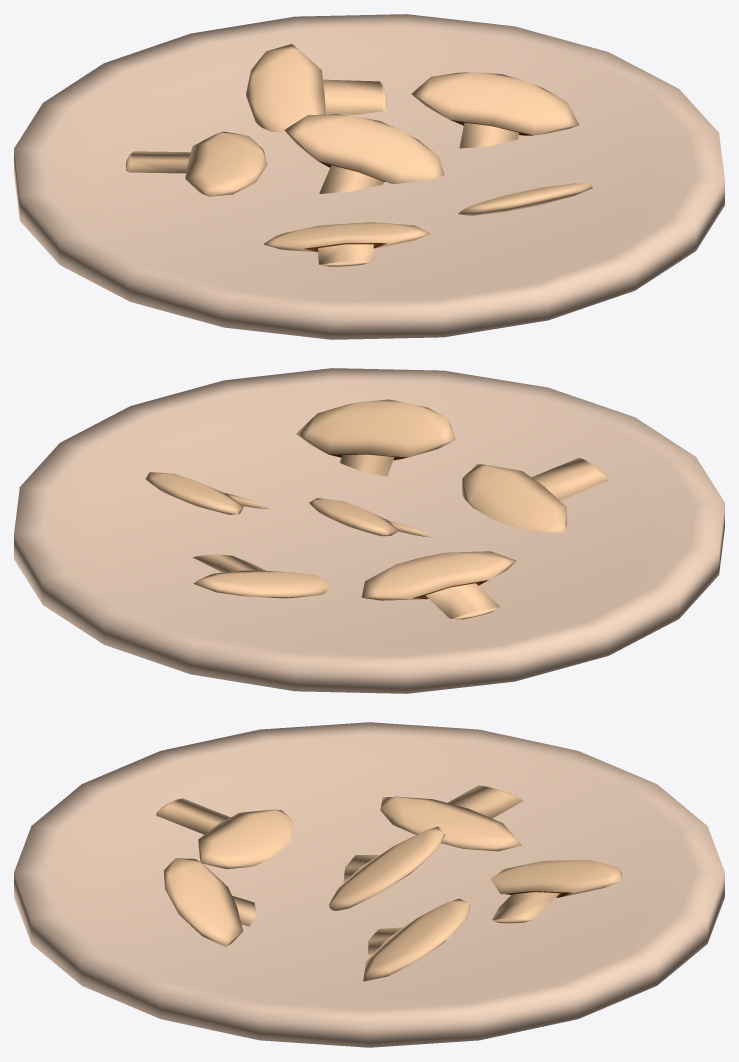
Rendered from RawPizza(WithMushrooms).glb.
3 renders of one model, top to bottom at view 1: azimuth 30°, elevation 25°; view 2: azimuth 150°, elevation 25°; view 3: azimuth 270°, elevation 25°, orthographic.
Visible parts, largest first — view 1: Icosphere.025; view 2: Icosphere.025; view 3: Icosphere.025.
Boxes of the visible parts, x1=… form: Icosphere.025: x1=14, y1=14, x2=724, y2=339; Icosphere.025: x1=14, y1=368, x2=724, y2=693; Icosphere.025: x1=14, y1=722, x2=724, y2=1047.
Size of the model in its own units: 0.8833 by 0.078 by 0.8833.
